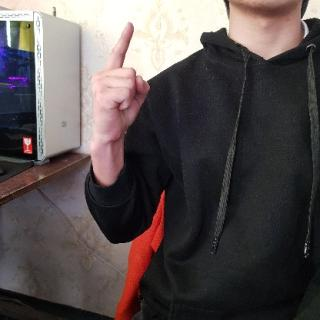RAA: (87, 20, 154, 158)
